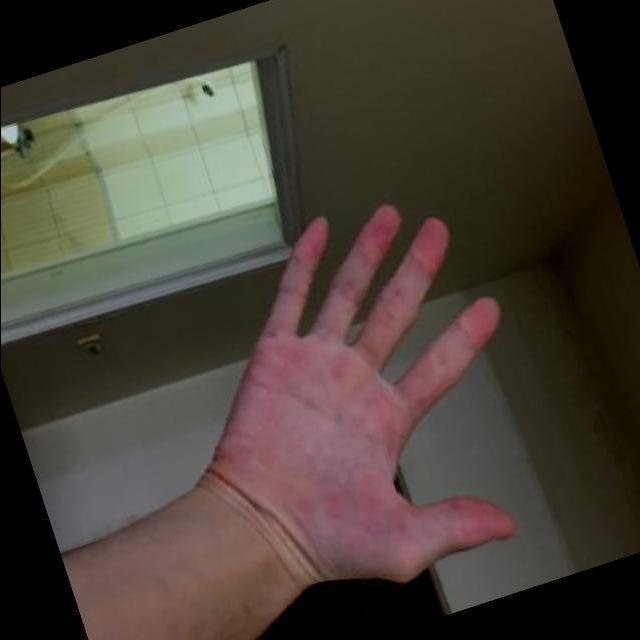Hand: (185, 200, 520, 608)
